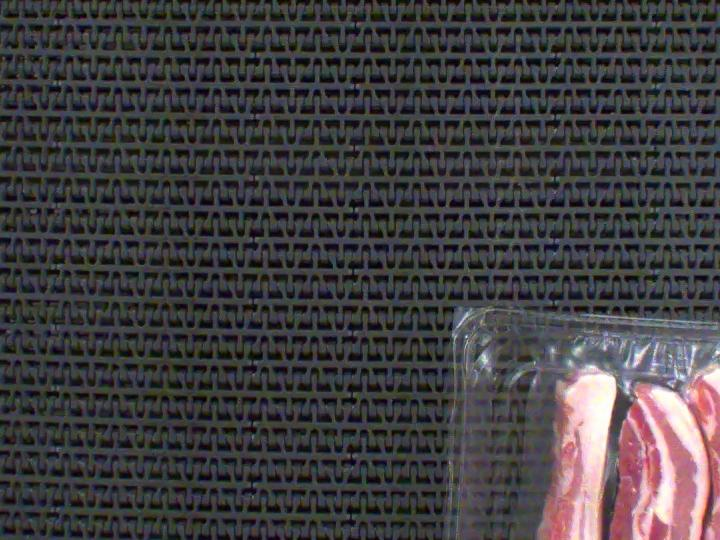unsealed: (503, 317, 720, 540)
